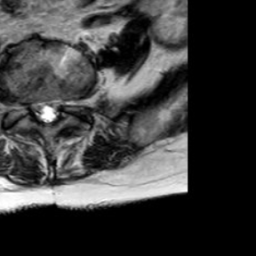CCS_normal: (42, 87, 52, 130)
LFS_stenosis: (62, 85, 73, 120)
LLS_normal: (52, 88, 62, 127)
RFS_severe_stenosis: (22, 89, 32, 123)
RLS_normal: (32, 90, 42, 130)
